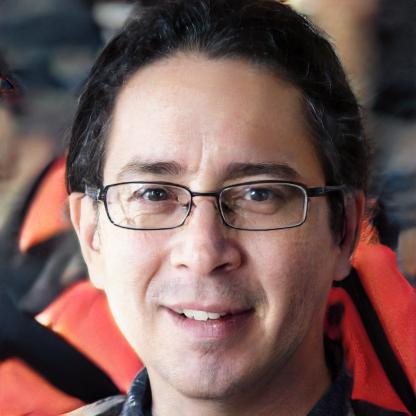glasses: (93, 176, 329, 236)
